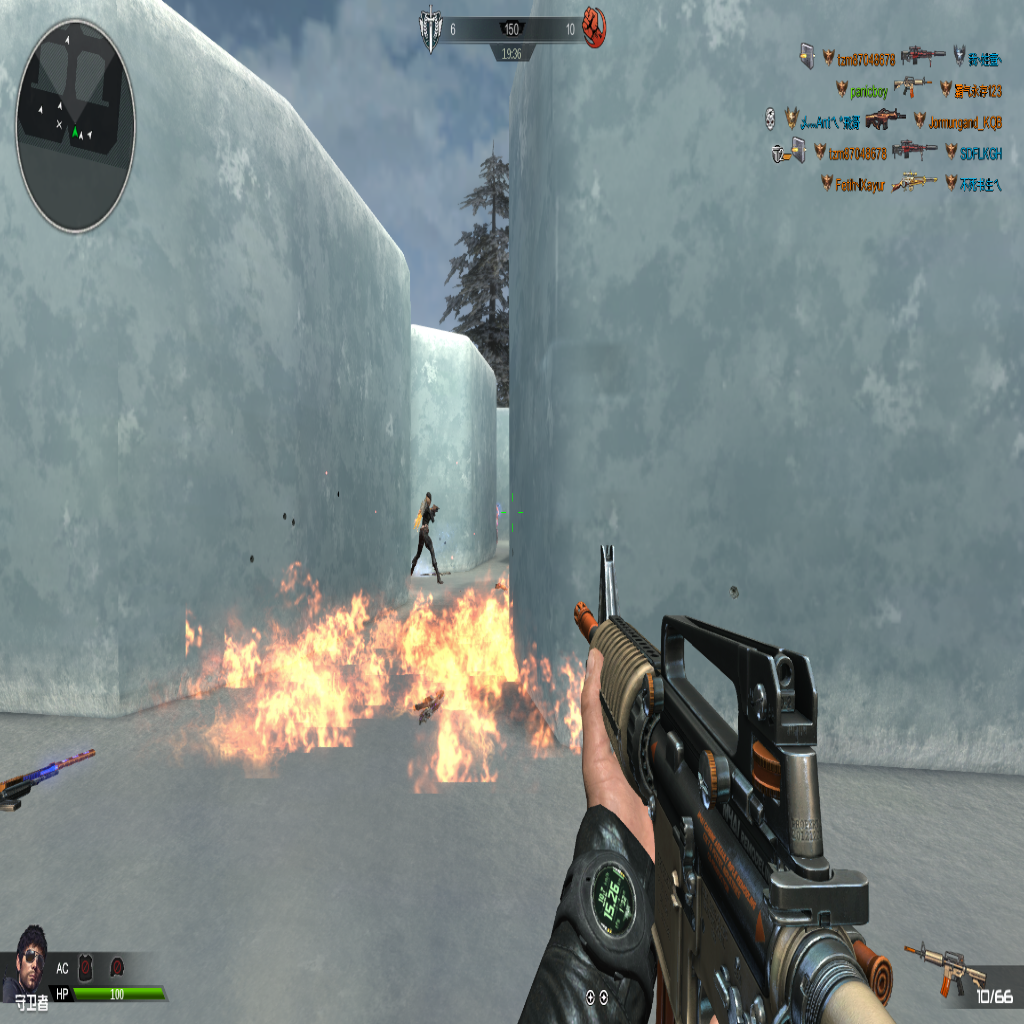ct: (409, 490, 444, 580)
